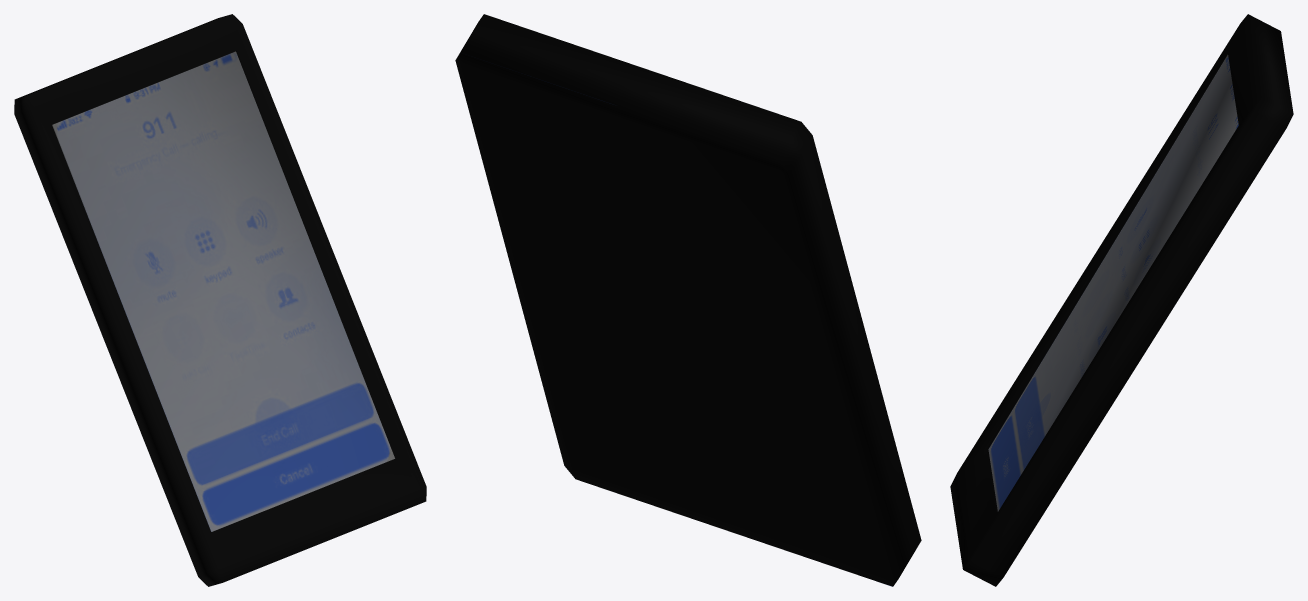
Rendered from Phone.gltf.
3 views of the same model, side by side, from view 1: azimuth 30°, elevation 25°; view 2: azimuth 150°, elevation 25°; view 3: azimuth 270°, elevation 25° (orthographic). The views are drawn at different scales.
Visible parts, largest first — view 1: Cube; view 2: Cube; view 3: Cube.
Part boxes in pixels (left/top/right/bottom): Cube: left=14, top=14, right=426, bottom=586; Cube: left=455, top=14, right=921, bottom=586; Cube: left=950, top=14, right=1293, bottom=586.
Size of the model in its own units: 0.4664 by 0.7167 by 0.458.
1 material, 1 textured.
